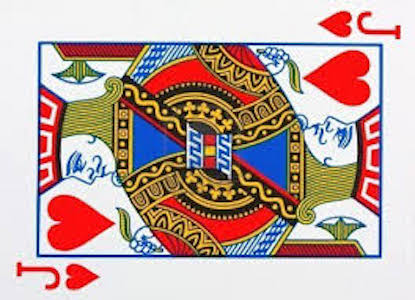JackOfHearts: (1, 5, 410, 299)
